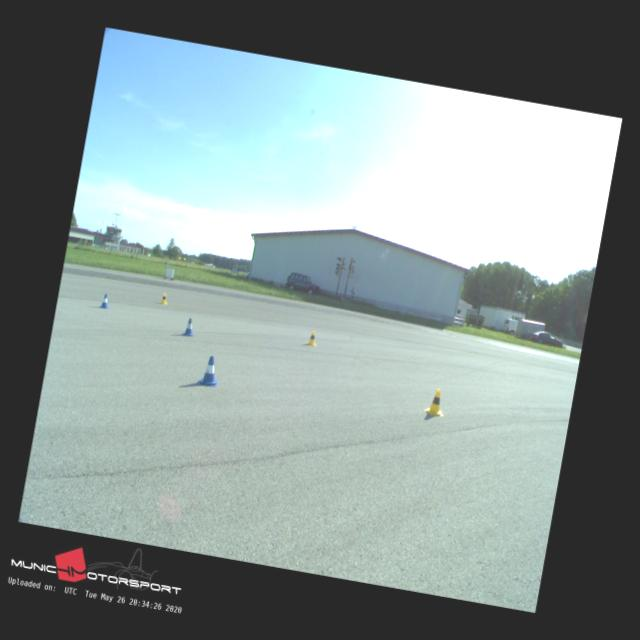blue_cone: (197, 354, 221, 386), (182, 318, 195, 337), (99, 294, 110, 308)
yellow_cone: (422, 386, 447, 416), (306, 329, 318, 345), (160, 292, 168, 304)
